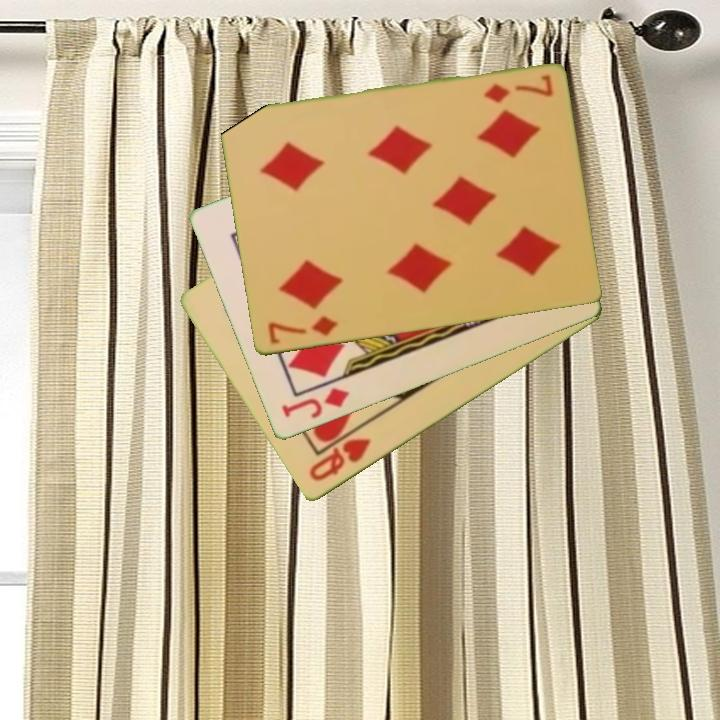7d: (480, 71, 556, 107), (264, 312, 341, 347)
Jd: (277, 385, 353, 422)
Qh: (305, 435, 374, 485)
